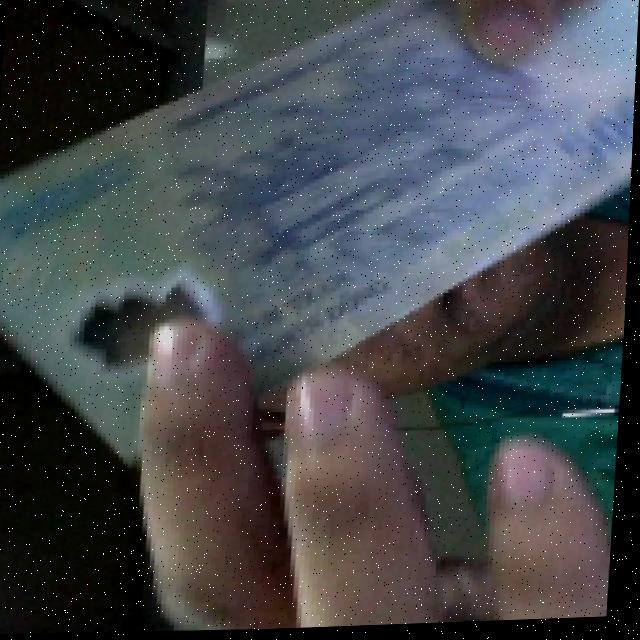500 000 VND: (0, 0, 640, 487)
